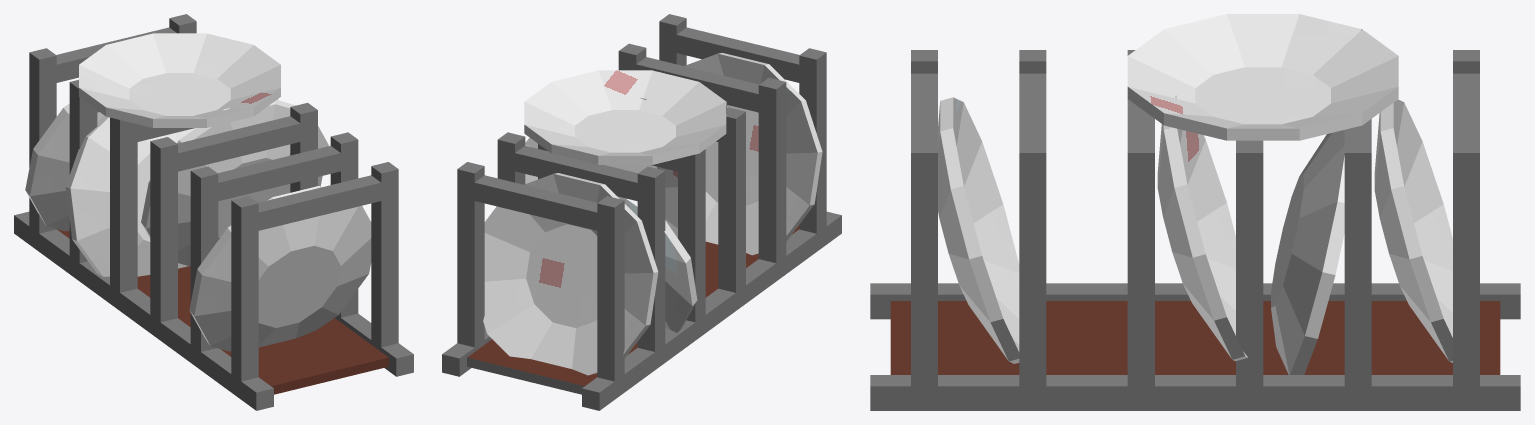
File: dishes_not_very_clean.gltf
3 renders of one model, left to right at view 1: azimuth 30°, elevation 25°; view 2: azimuth 150°, elevation 25°; view 3: azimuth 270°, elevation 25°, orthographic. The views are drawn at different scales.
Visible parts, largest first — view 1: cuboid (×17), cylinder (×5), base; view 2: cuboid (×16), cylinder (×5), base; view 3: cylinder (×5), cuboid (×15), base.
Part boxes in pixels (x1,y1,x2,y2): cuboid (×17): (14,14,413,410); cylinder (×5): (25,33,371,351); base: (57,229,388,394); cuboid (×16): (442,14,841,410); cylinder (×5): (483,53,822,375); base: (467,225,799,394); cylinder (×5): (938,14,1452,374); cuboid (×15): (870,50,1520,410); base: (890,301,1500,374).
Size of the model in its own units: 0.075 by 0.0758 by 0.15.
2 materials, 2 textured.
